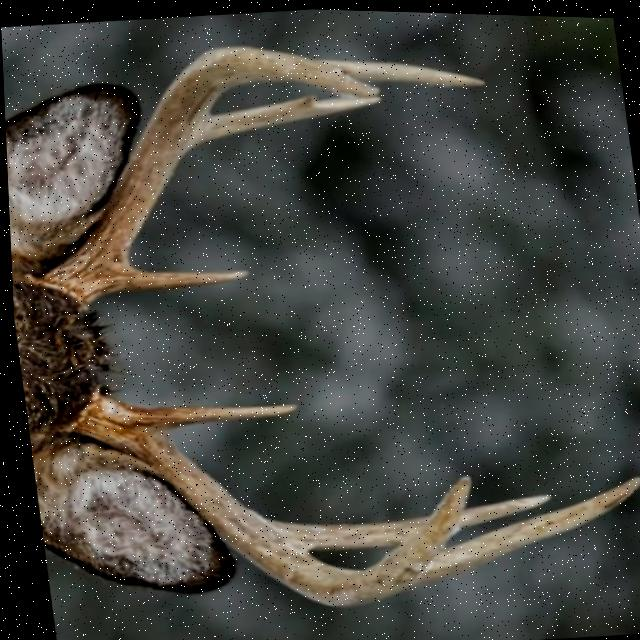L-F: (67, 395, 465, 603)
L-G1: (136, 402, 292, 426)
R-F: (41, 44, 380, 303)
R-G1: (116, 267, 247, 290)
R-G2: (185, 93, 379, 147)
